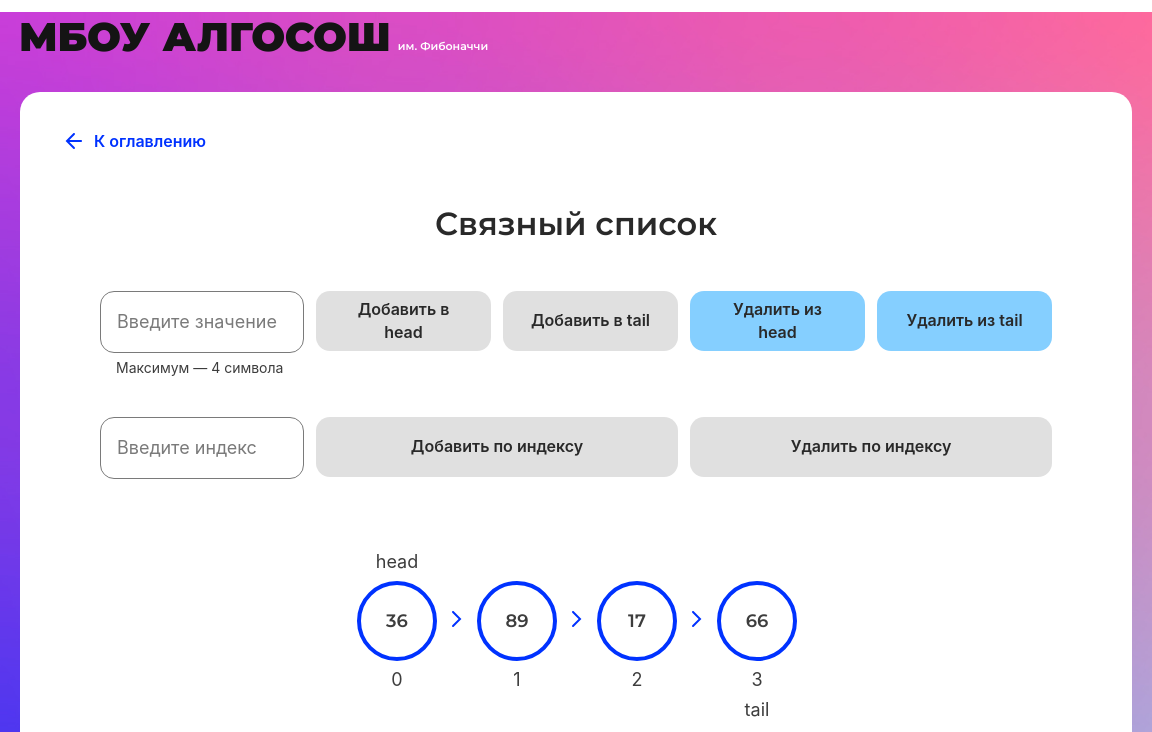
Scenario: Страница Связный список отображается корректно › Элемент добавляется в список
Type "1" into the field with test id "input" at (202, 322), box [100,291,304,353]
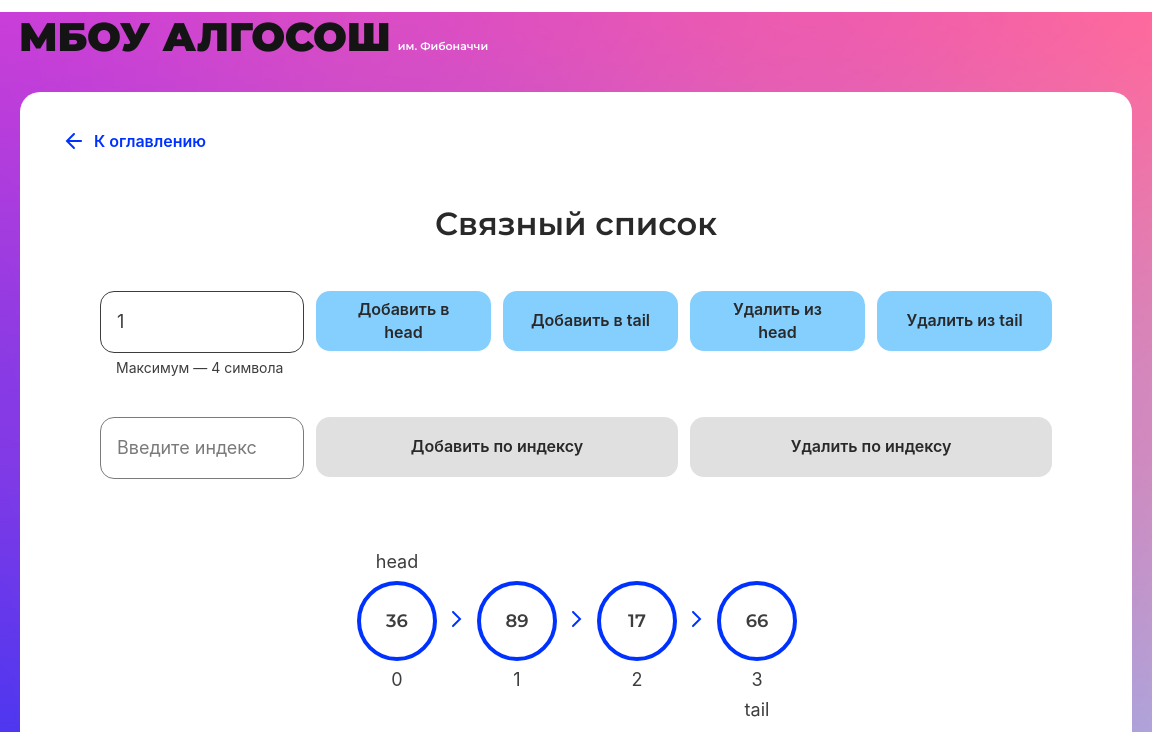
Click the button with test id "addtoheadbutton" at (404, 321), box [316,291,491,351]
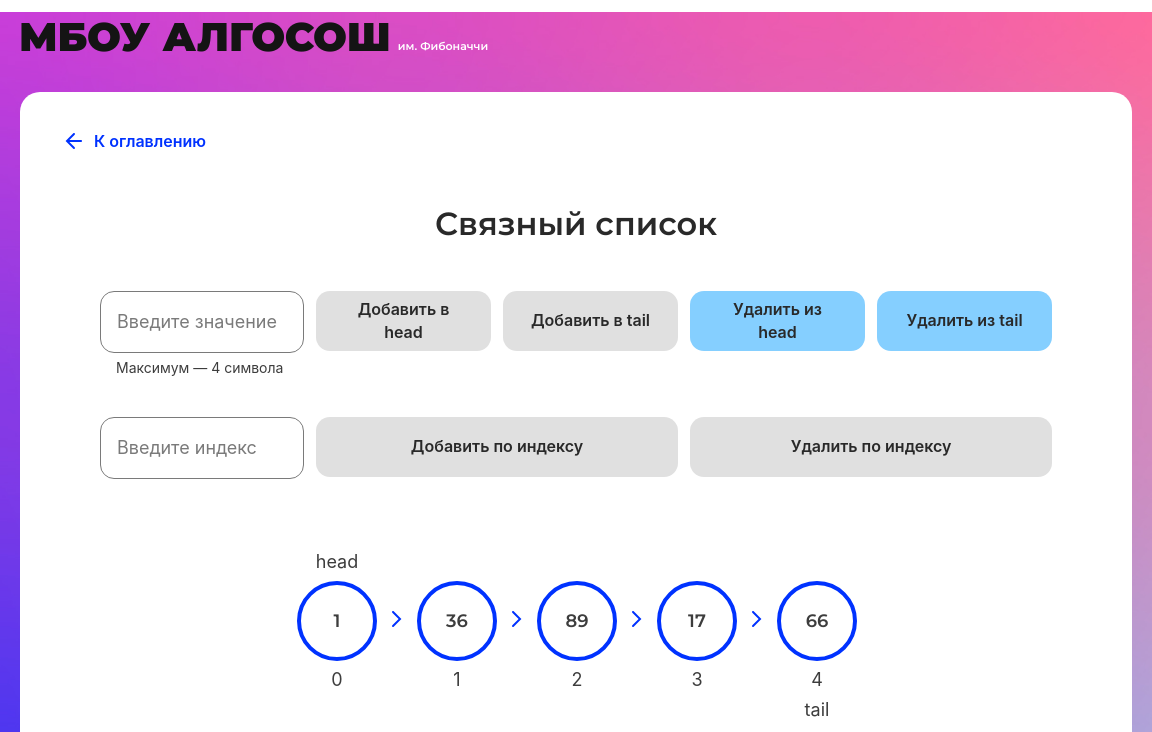
Expected: the number of elements with test id "circle" is 5, [297,581,377,661]; [417,581,497,661]; [537,581,617,661]; [657,581,737,661]; [777,581,857,661]
Expected: the number of elements with test id "arrow" is 4, [382,607,406,635]; [502,607,526,635]; [622,607,646,635]; [742,607,766,635]
